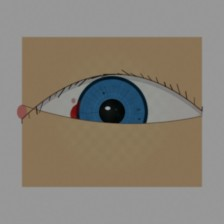hemorrhage_spot: (61, 86, 131, 142)
